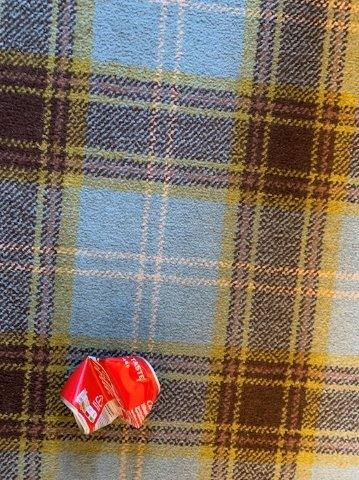kaleng: (63, 356, 160, 428)
